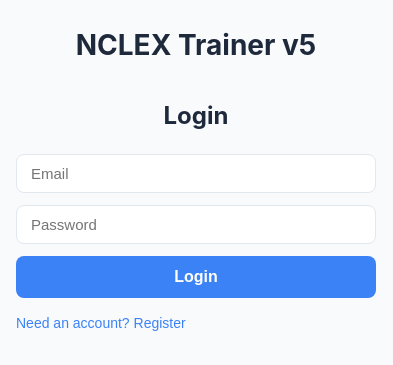
App › shows error on login failure
In the field with placeholder "Email": (196,174) x1=16 y1=154 x2=376 y2=193, type "bad@test.com"
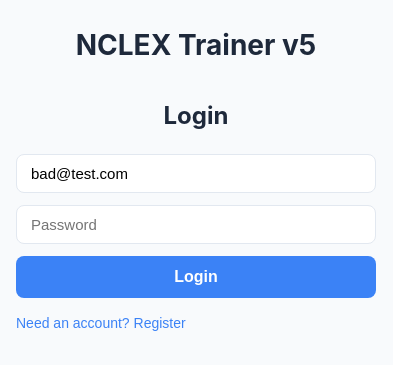
In the password field with placeholder "Password": (196,224) x1=16 y1=205 x2=376 y2=244, type "wrong"
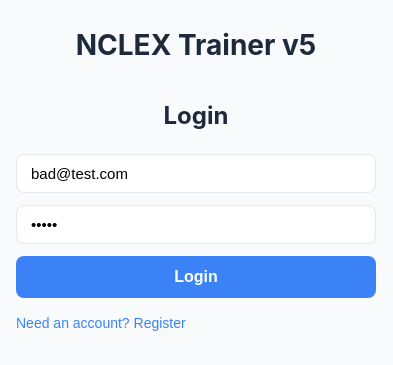
Submit the form from the button "Login", box x1=16 y1=256 x2=376 y2=298
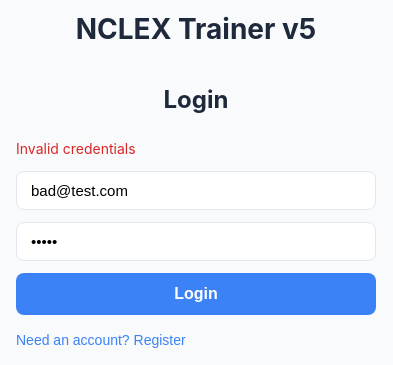
expect the text "Invalid credentials" is shown: met, box x1=16 y1=140 x2=136 y2=156
